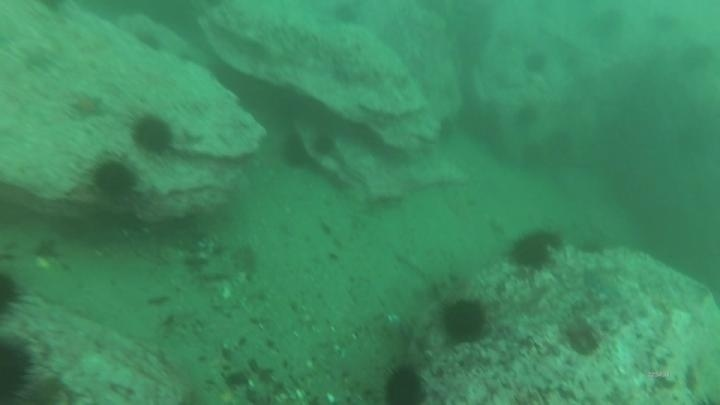echinus: (1, 333, 37, 405), (439, 296, 490, 345), (129, 112, 176, 157), (90, 157, 139, 200), (381, 363, 428, 405), (507, 237, 550, 272), (1, 269, 28, 322), (677, 40, 716, 76), (278, 132, 311, 172), (542, 127, 577, 164), (517, 140, 548, 173), (512, 101, 542, 132), (133, 28, 165, 54), (310, 131, 339, 159), (521, 49, 550, 76), (539, 226, 570, 248)
starfish: (582, 266, 626, 302), (67, 90, 108, 121)
